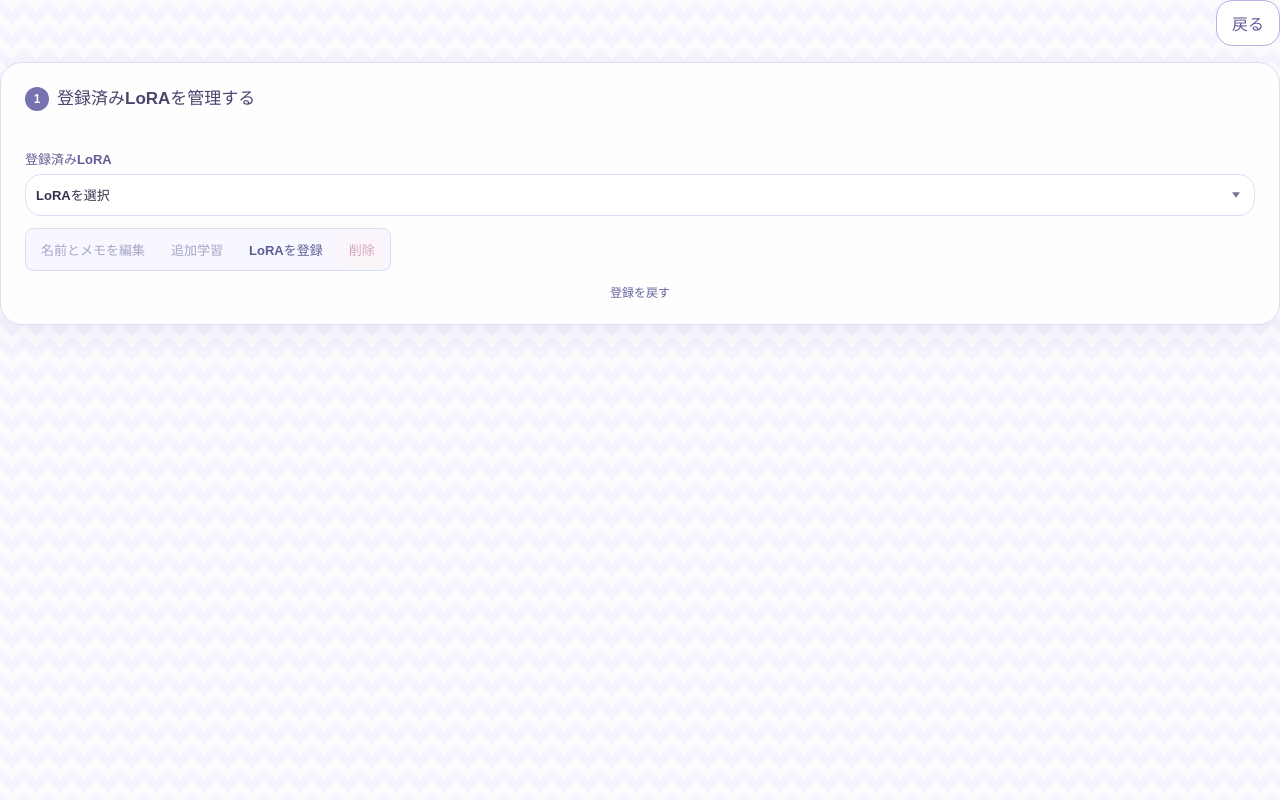
Test: cancels before opening LoRAを登録
Select "穏やかな声" in the dropdown labelled "登録済みLoRA": coordinates (640, 195) [25, 174, 1255, 216]
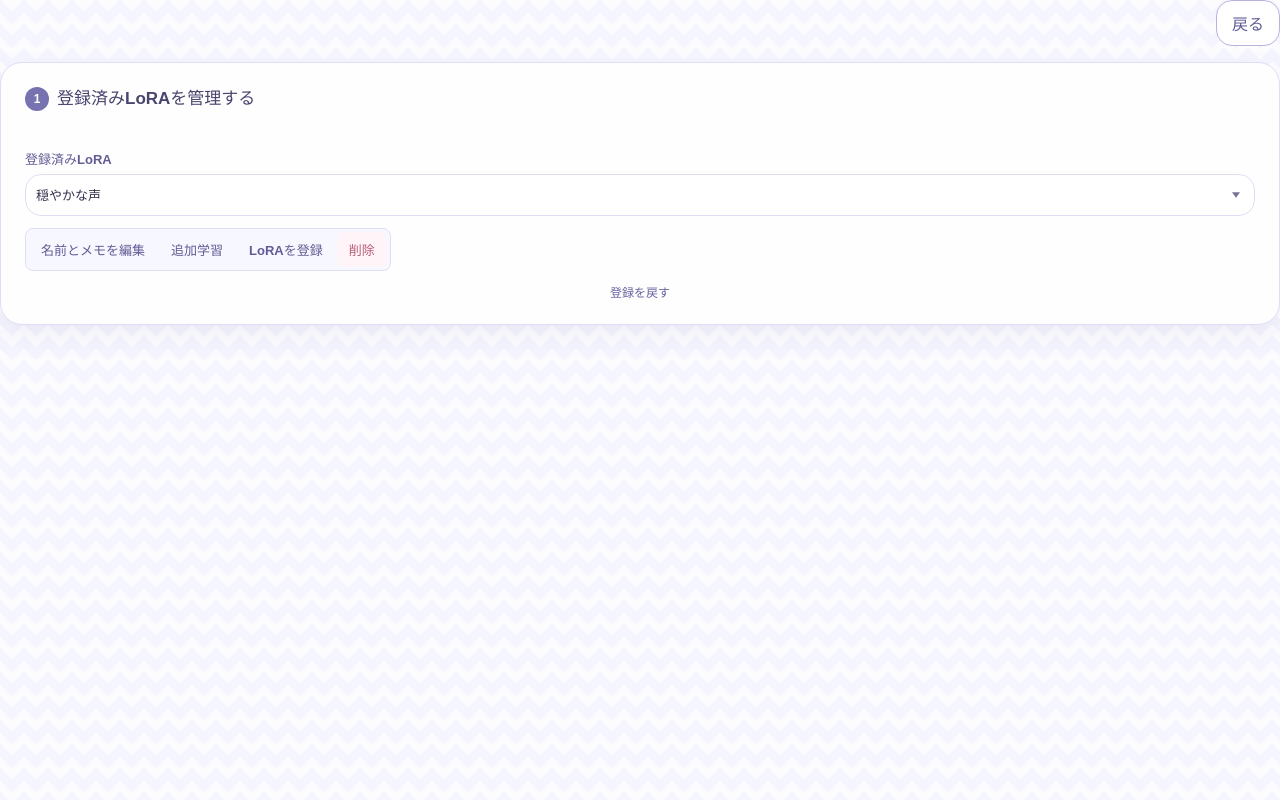
Click the button "削除": coordinates (362, 250) [337, 232, 387, 267]
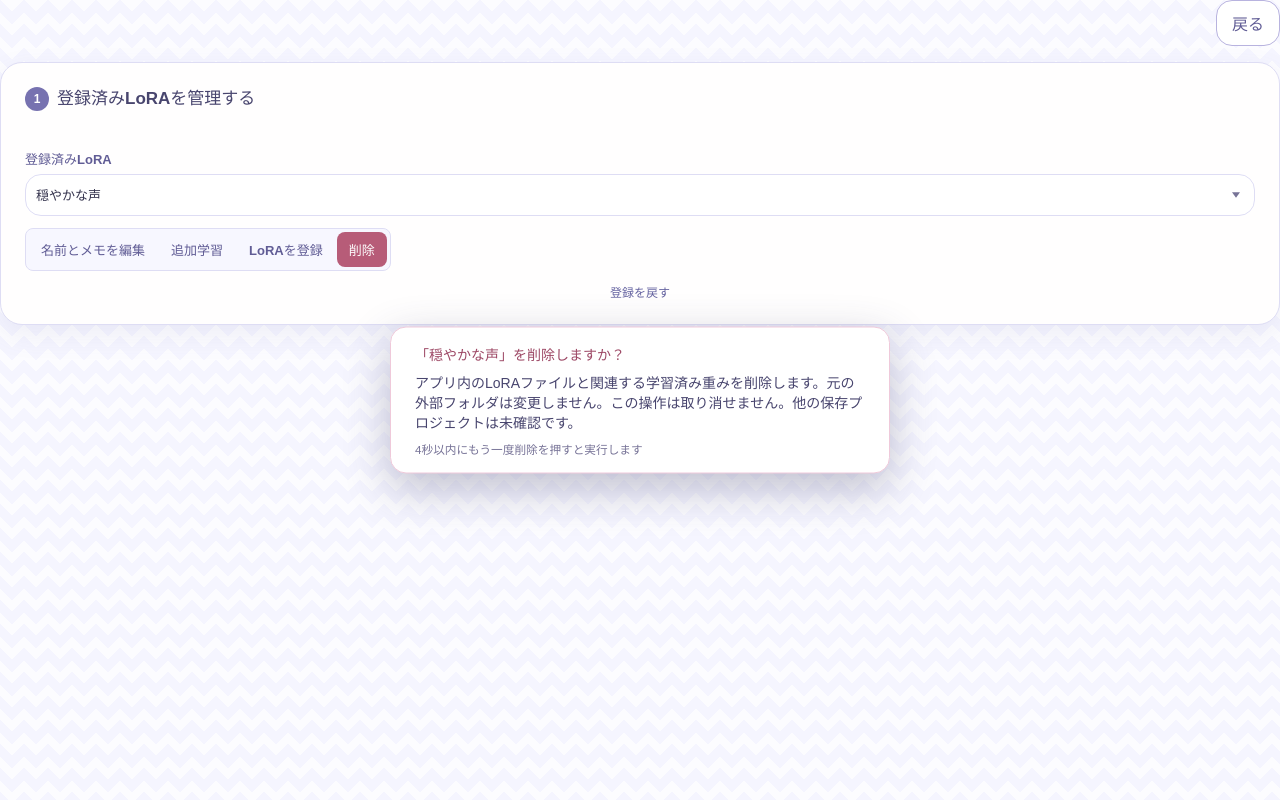
Click the button "LoRAを登録": coordinates (286, 250) [237, 232, 335, 267]
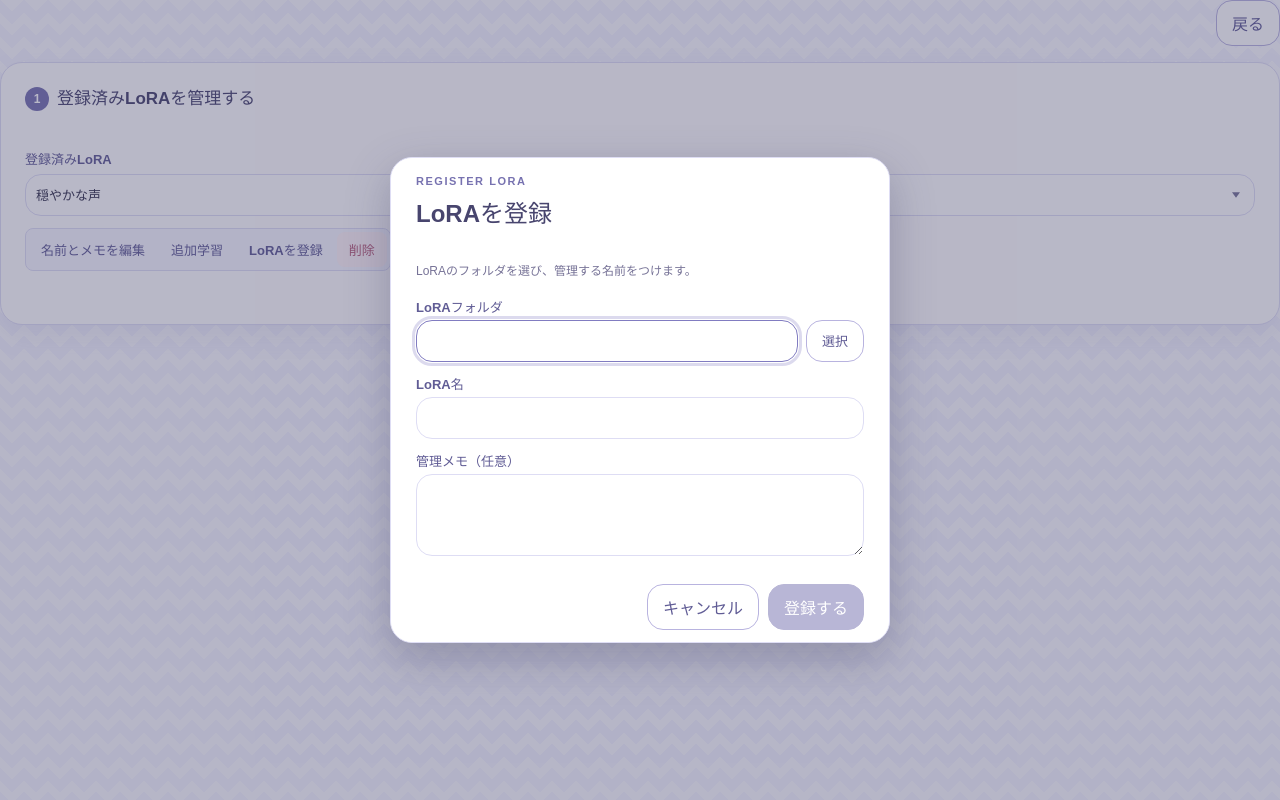
Check: the message with class "centered-notice" is gone
Check: the dialog is shown, box [390, 157, 890, 643]
